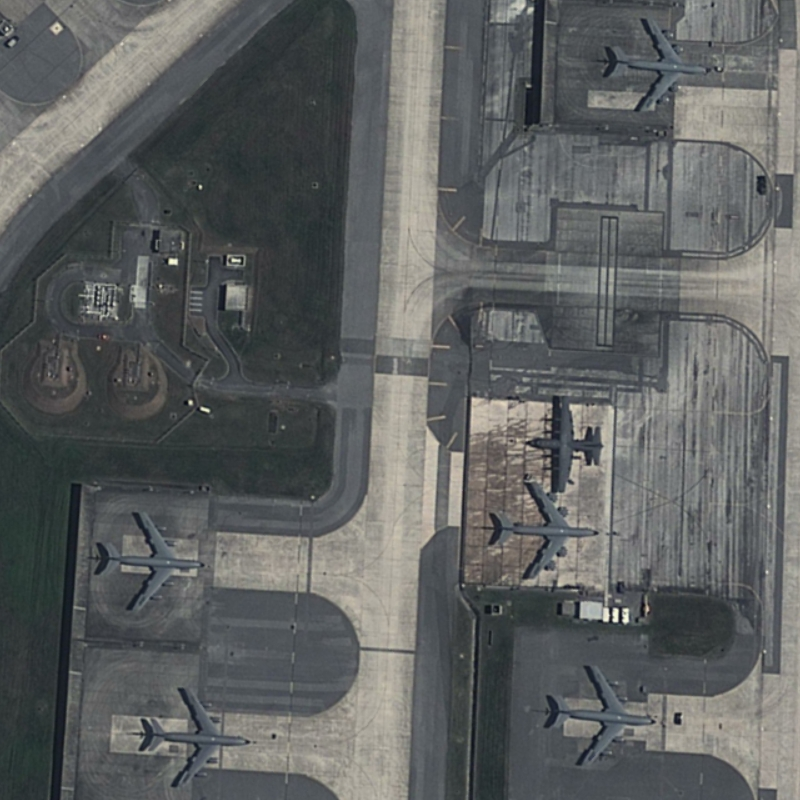A14: (542, 655, 659, 778), (88, 505, 207, 618), (483, 478, 607, 585), (136, 680, 254, 790), (601, 13, 714, 117)
A2: (524, 389, 612, 495)
